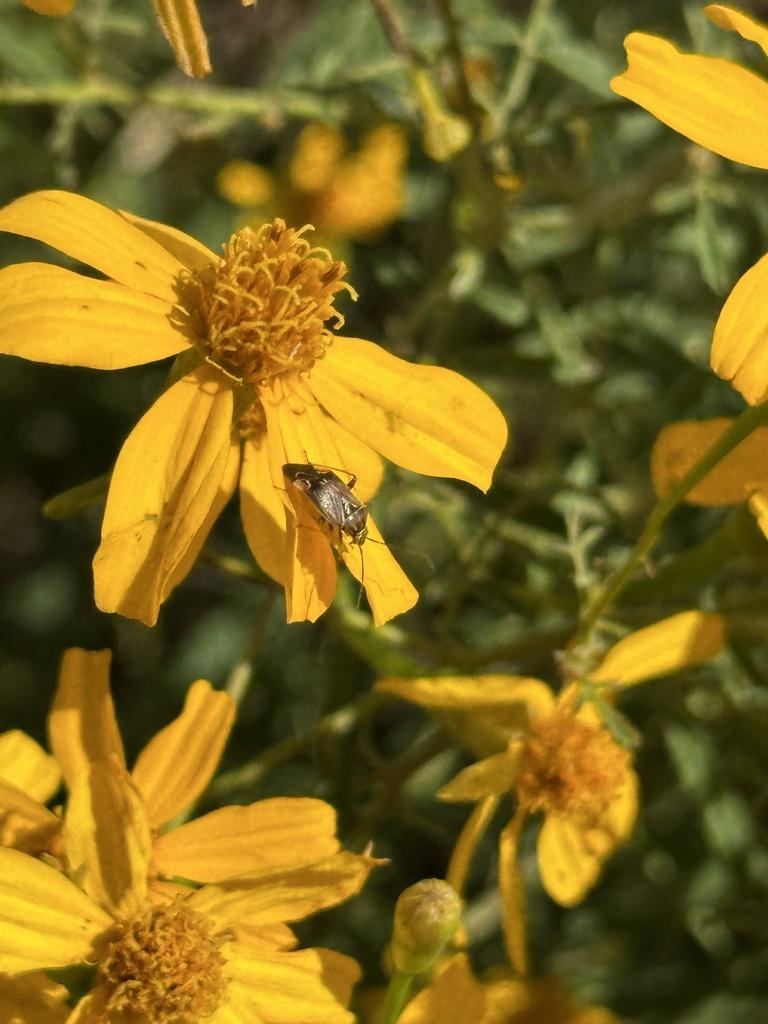plant_bugs: (253, 426, 449, 638)
